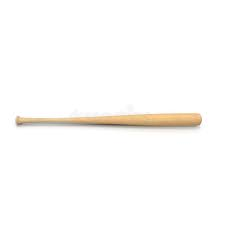baseball bat: (15, 111, 203, 127)
